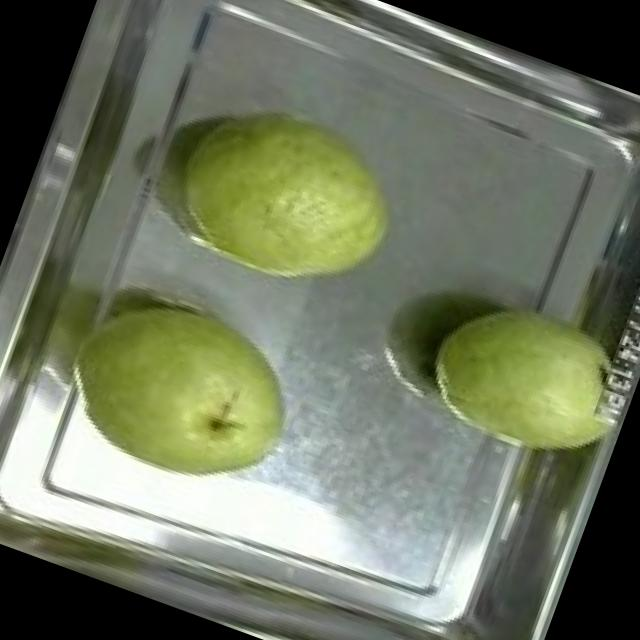Fruit: (44, 264, 326, 520), (149, 73, 426, 325), (403, 270, 640, 487)
